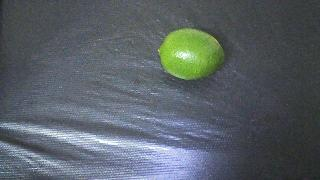LOCAL: (158, 29, 225, 80)
